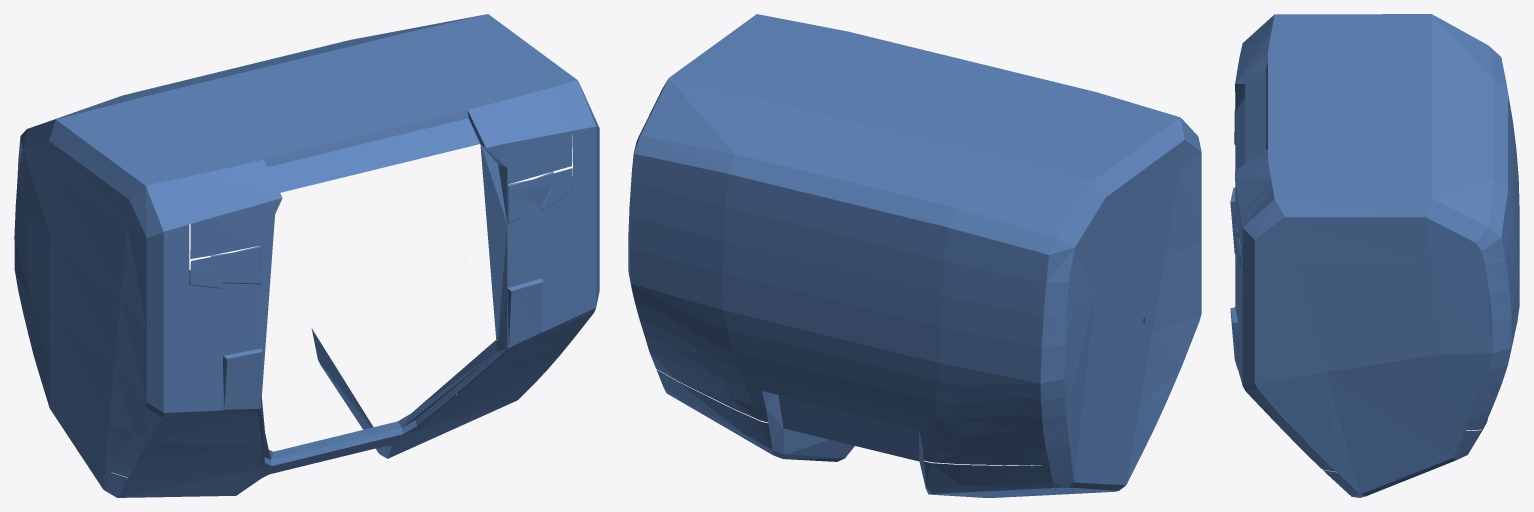
The model's file is robot__visual__rx78_Null_018_link__rx78_Null_017_link__rx78_Null_016_link__rx78_object_080-lib.dae_2.glb.
3 renders of one model, left to right at view 1: azimuth 30°, elevation 25°; view 2: azimuth 150°, elevation 25°; view 3: azimuth 270°, elevation 25°, orthographic. The views are drawn at different scales.
Visible parts, largest first — view 1: world; view 2: world; view 3: world.
Boxes of the visible parts, bbox=[...] form: world: bbox=[14, 14, 599, 497]; world: bbox=[628, 14, 1201, 497]; world: bbox=[1230, 14, 1519, 497].
Bounding box in the file's own units: 3.78 × 3.05 × 2.39.
